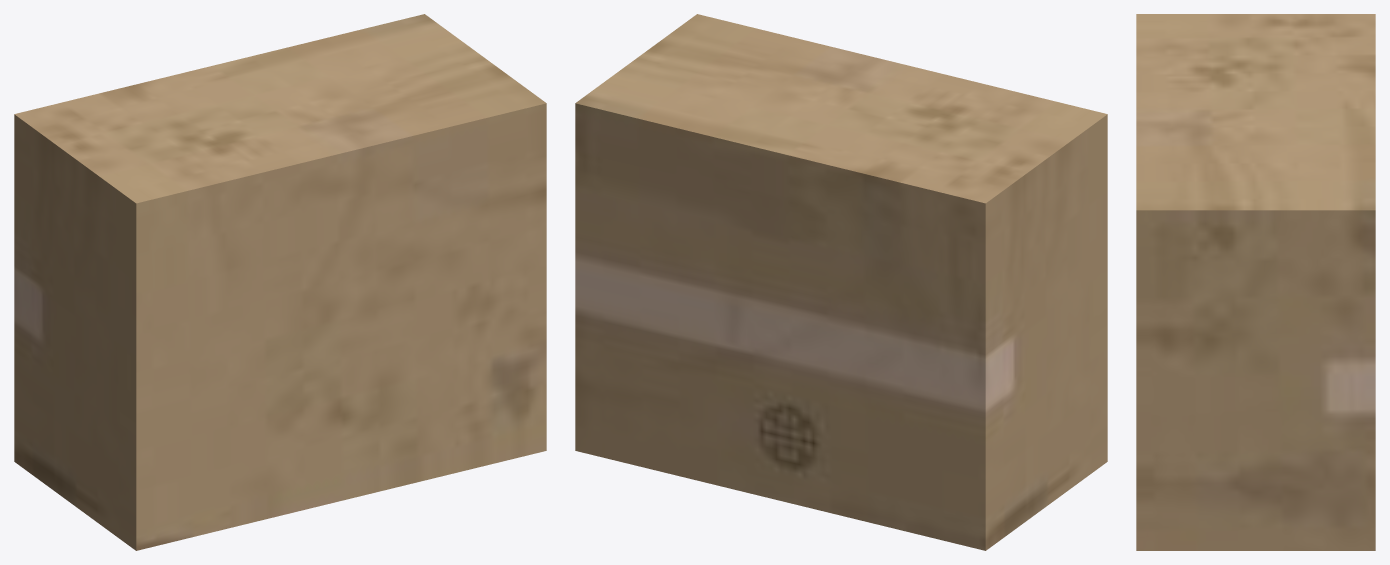
3 views of the same model, side by side, from view 1: azimuth 30°, elevation 25°; view 2: azimuth 150°, elevation 25°; view 3: azimuth 270°, elevation 25° (orthographic). The views are drawn at different scales.
Visible parts, largest first — view 1: Box; view 2: Box; view 3: Box.
Boxes of the visible parts, left/top/right/bottom form: Box: left=14, top=14, right=546, bottom=550; Box: left=575, top=14, right=1107, bottom=550; Box: left=1136, top=14, right=1375, bottom=550.
Size of the model in its own units: 0.7556 by 0.6111 by 0.3889.
Materials: 1 (1 with a texture image).
